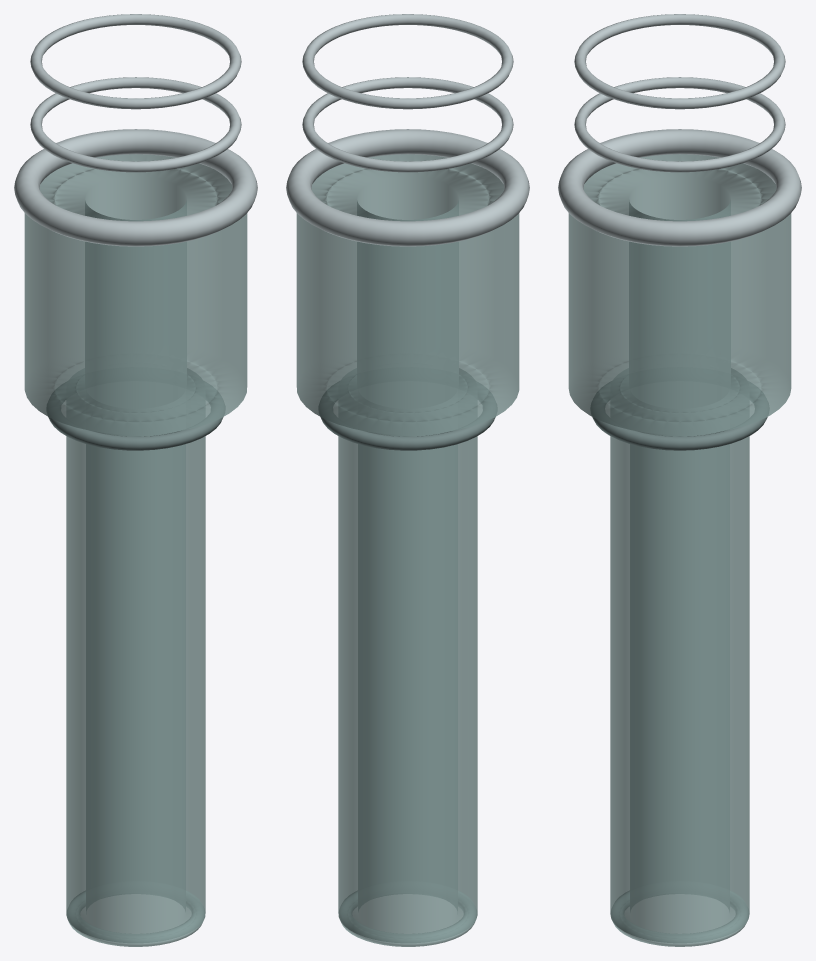
The model's file is cannula.glb.
The picture shows the model from 3 angles, left to right: view 1: azimuth 30°, elevation 25°; view 2: azimuth 150°, elevation 25°; view 3: azimuth 270°, elevation 25°; orthographic projection.
Parts seen in each view (by area): view 1: ShaftWall, TaperedHub, LockCollar, LuerRidgeB, LuerRidgeA, CannulaShaft, SealRing; view 2: ShaftWall, TaperedHub, LockCollar, LuerRidgeB, LuerRidgeA, CannulaShaft, SealRing; view 3: ShaftWall, TaperedHub, LockCollar, LuerRidgeB, LuerRidgeA, CannulaShaft, SealRing.
Part boxes in pixels (<box>): ShaftWall: <box>66,368,205,943</box>; TaperedHub: <box>24,154,247,434</box>; LockCollar: <box>14,129,257,246</box>; LuerRidgeB: <box>30,14,241,109</box>; LuerRidgeA: <box>30,77,241,172</box>; CannulaShaft: <box>67,891,204,946</box>; SealRing: <box>48,416,223,450</box>; ShaftWall: <box>338,368,477,943</box>; TaperedHub: <box>296,154,519,434</box>; LockCollar: <box>286,129,529,246</box>; LuerRidgeB: <box>302,14,513,109</box>; LuerRidgeA: <box>302,77,513,172</box>; CannulaShaft: <box>339,891,476,946</box>; SealRing: <box>320,416,495,450</box>; ShaftWall: <box>610,368,749,943</box>; TaperedHub: <box>568,154,791,434</box>; LockCollar: <box>558,129,801,246</box>; LuerRidgeB: <box>574,14,785,109</box>; LuerRidgeA: <box>574,77,785,172</box>; CannulaShaft: <box>610,891,749,946</box>; SealRing: <box>592,417,767,450</box>.
Size of the model in its own units: 0.0105 by 0.0411 by 0.0105.
